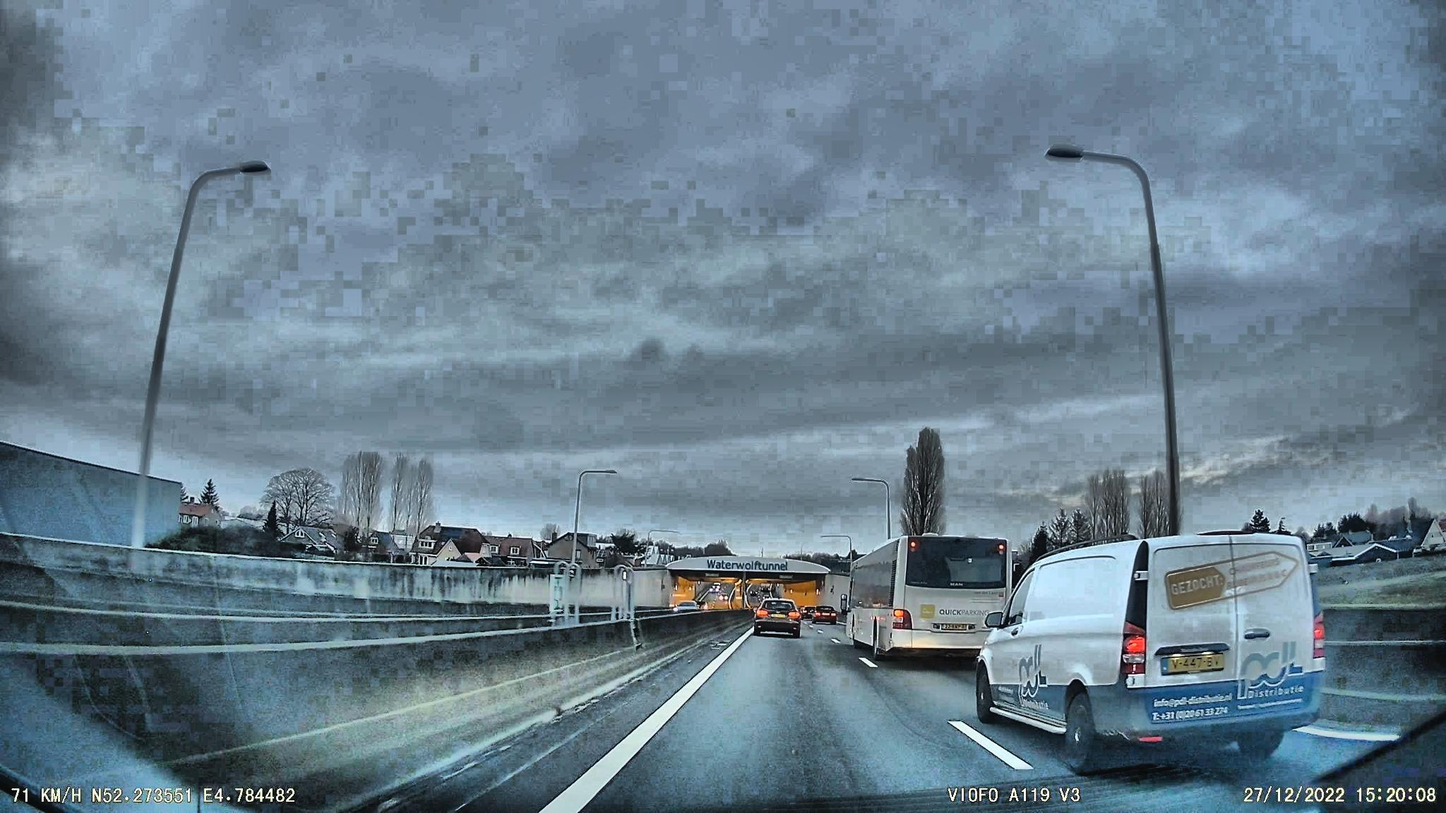Roads: (359, 623, 1446, 813)
